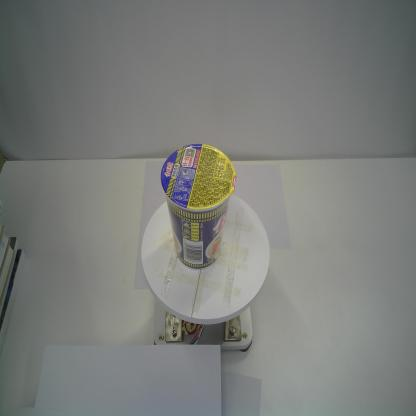Instant Noodles: (161, 144, 237, 271)
